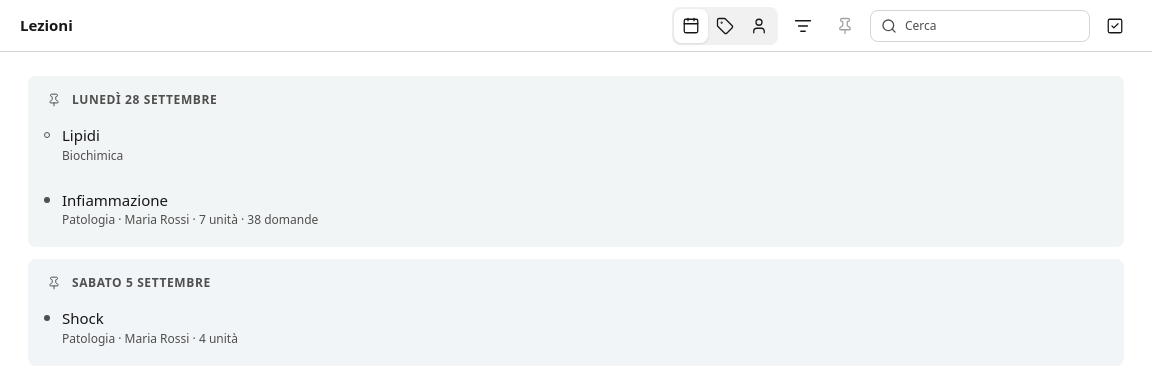
it: pagina Lezioni › la ricerca filtra le righe
Type "rossi" into the search field labelled "Cerca" at (992, 26), box 905,16 -> 1079,34
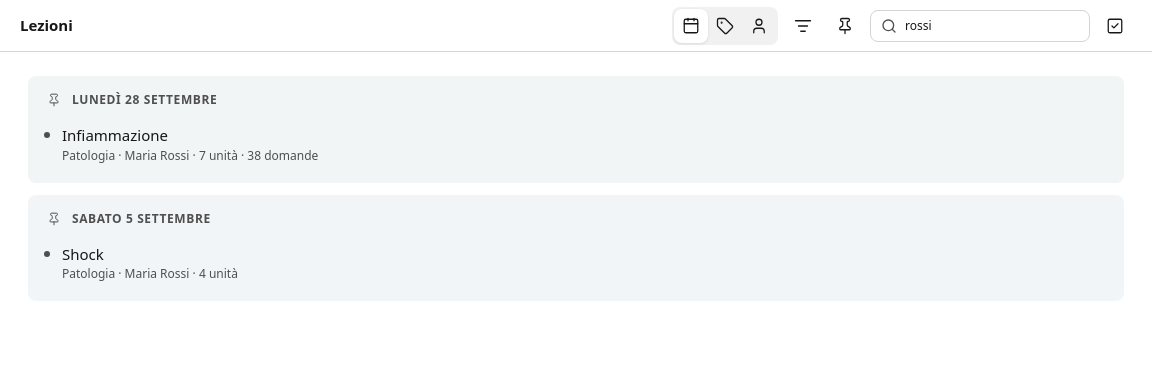
Expected: the number of list items with test id "lesson-row" is 2, 44,125 -> 318,164; 44,244 -> 238,282
Replace the text in the search field named "Cerca" with "zzz" at (992, 26), box 905,16 -> 1079,34
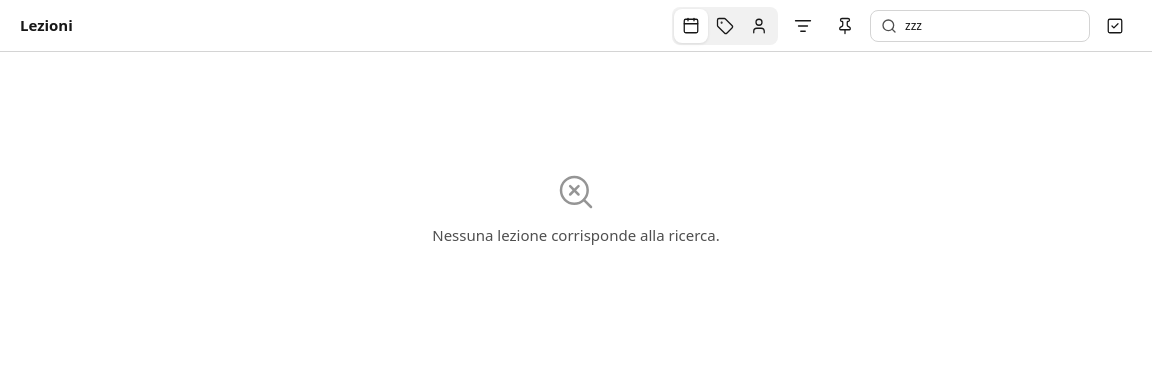
Expected: the element with test id "lessons-empty" reads "Nessuna lezione corrisponde alla ricerca.", 432,225 -> 720,245
